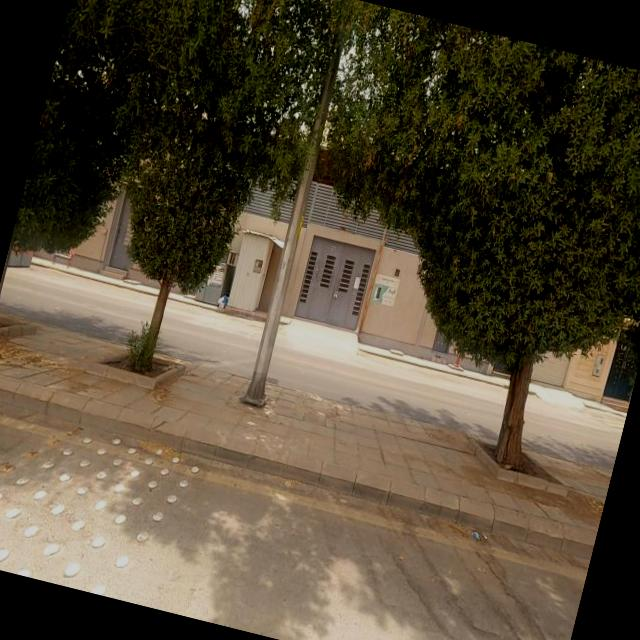debris: (194, 268, 248, 340)
